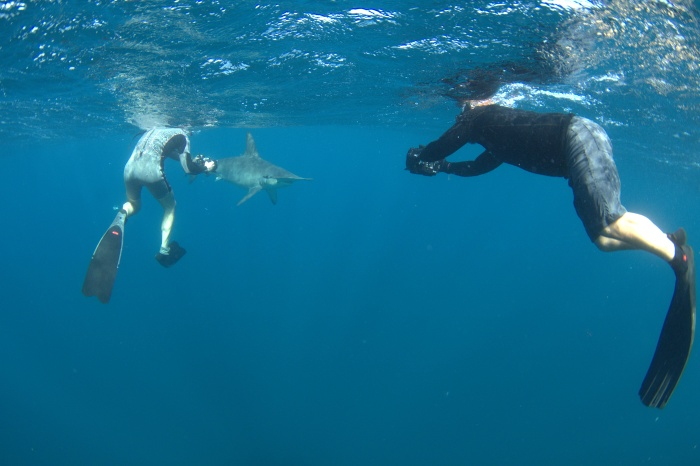Hammer: (208, 131, 319, 223)
